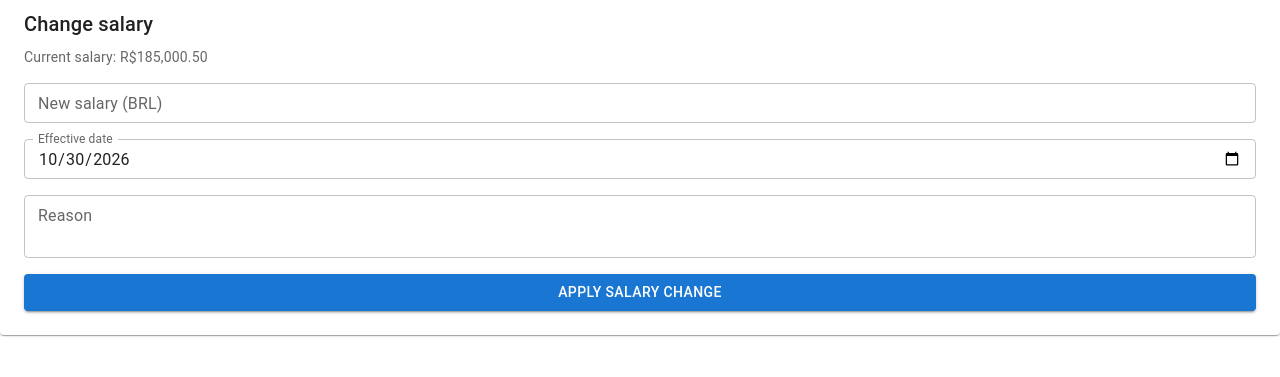
it: SalaryChangeForm › rejects zero and negative salaries
The image size is (1280, 377).
Type "-5" into the number field labelled "New salary (BRL)" at (640, 103), box top-left (24, 83), bottom-right (1256, 123)
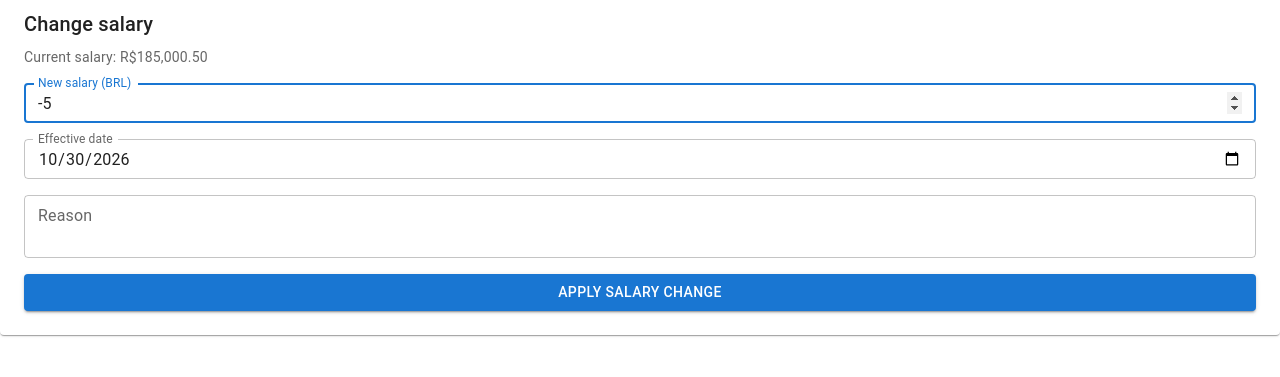
Type "Typo" into the text box labelled "Reason" at (640, 226), box top-left (38, 204), bottom-right (1242, 250)
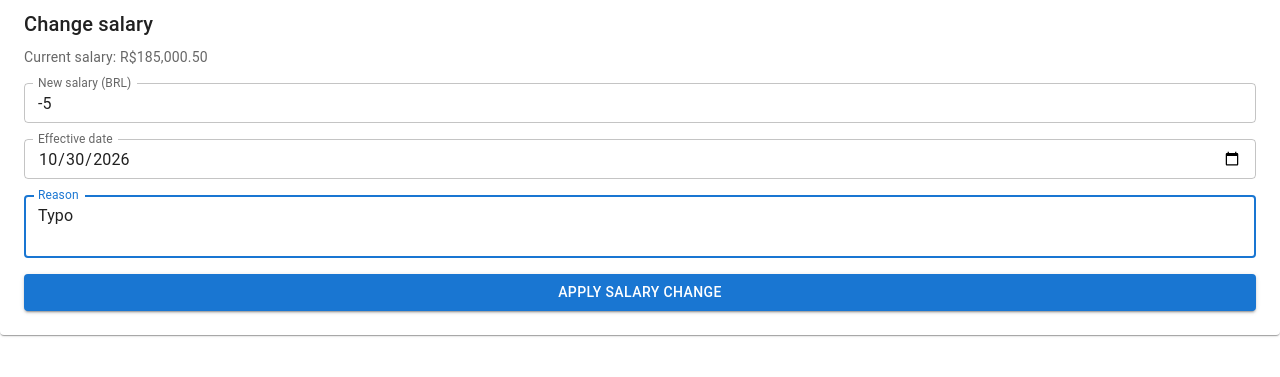
Click the button "Apply salary change" at (640, 292), box top-left (24, 274), bottom-right (1256, 310)
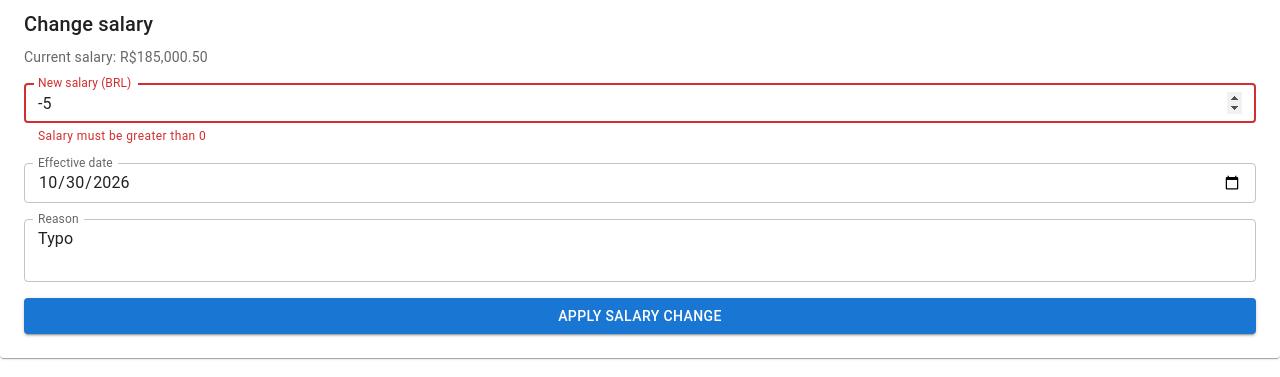
Now the text "Salary must be greater than 0" is shown, box top-left (38, 129), bottom-right (206, 143)
